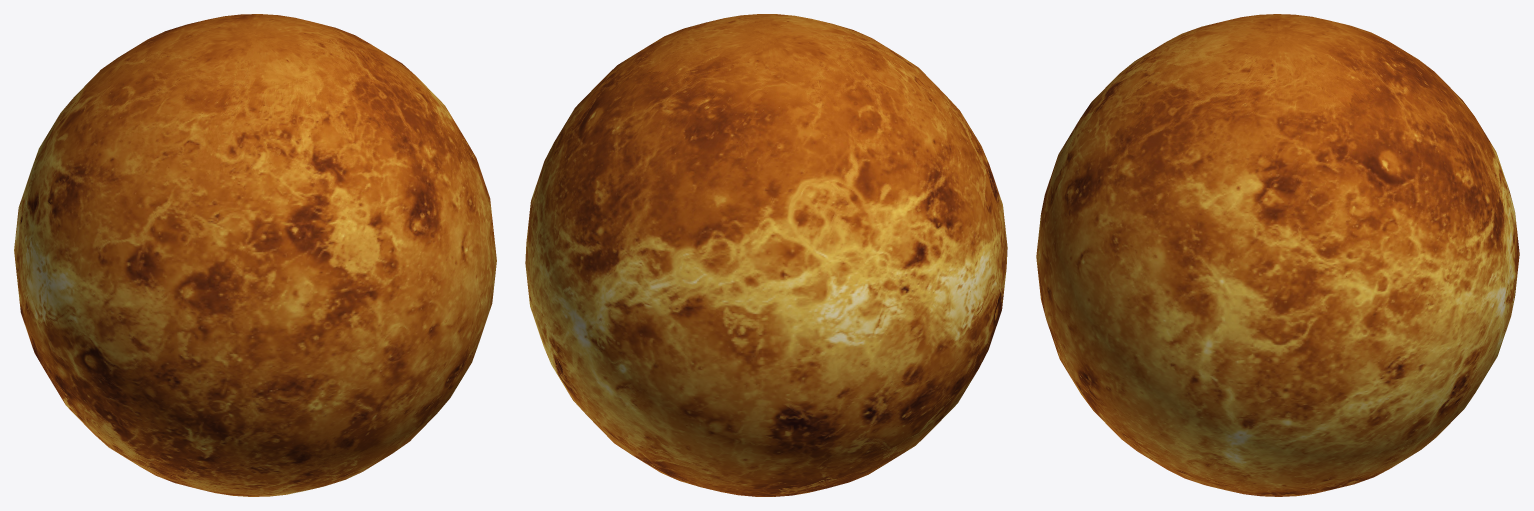
The model's file is jinxing.obj.
The picture shows the model from 3 angles, left to right: view 1: azimuth 30°, elevation 25°; view 2: azimuth 150°, elevation 25°; view 3: azimuth 270°, elevation 25°; orthographic projection.
Parts seen in each view (by area): view 1: Sphere001; view 2: Sphere001; view 3: Sphere001.
Part boxes in pixels (left/top/right/bottom): Sphere001: left=14, top=14, right=496, bottom=496; Sphere001: left=525, top=14, right=1007, bottom=496; Sphere001: left=1036, top=14, right=1519, bottom=496.
Bounding box in the file's own units: 78.32 × 78.33 × 78.32.
1 material, 1 textured.
